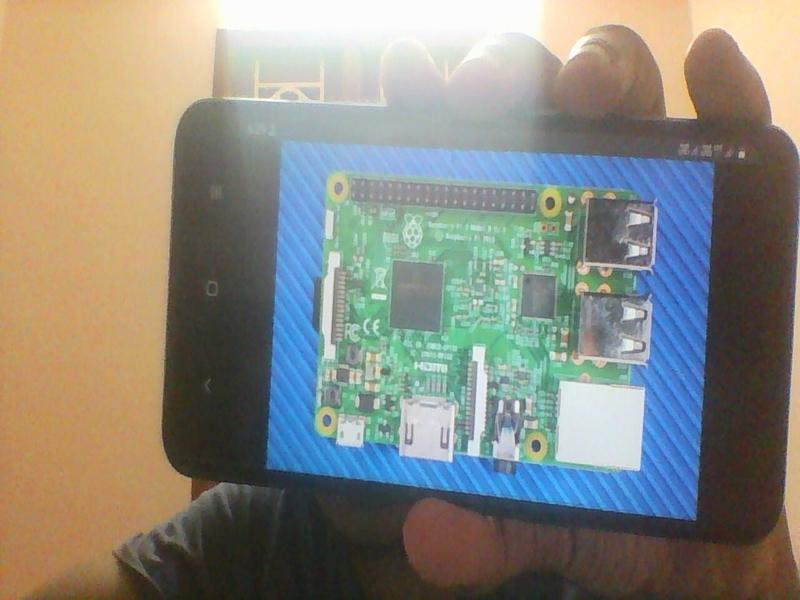aud: (491, 395, 523, 477)
eth: (556, 378, 646, 474)
usb: (575, 291, 652, 367), (580, 196, 658, 271)
